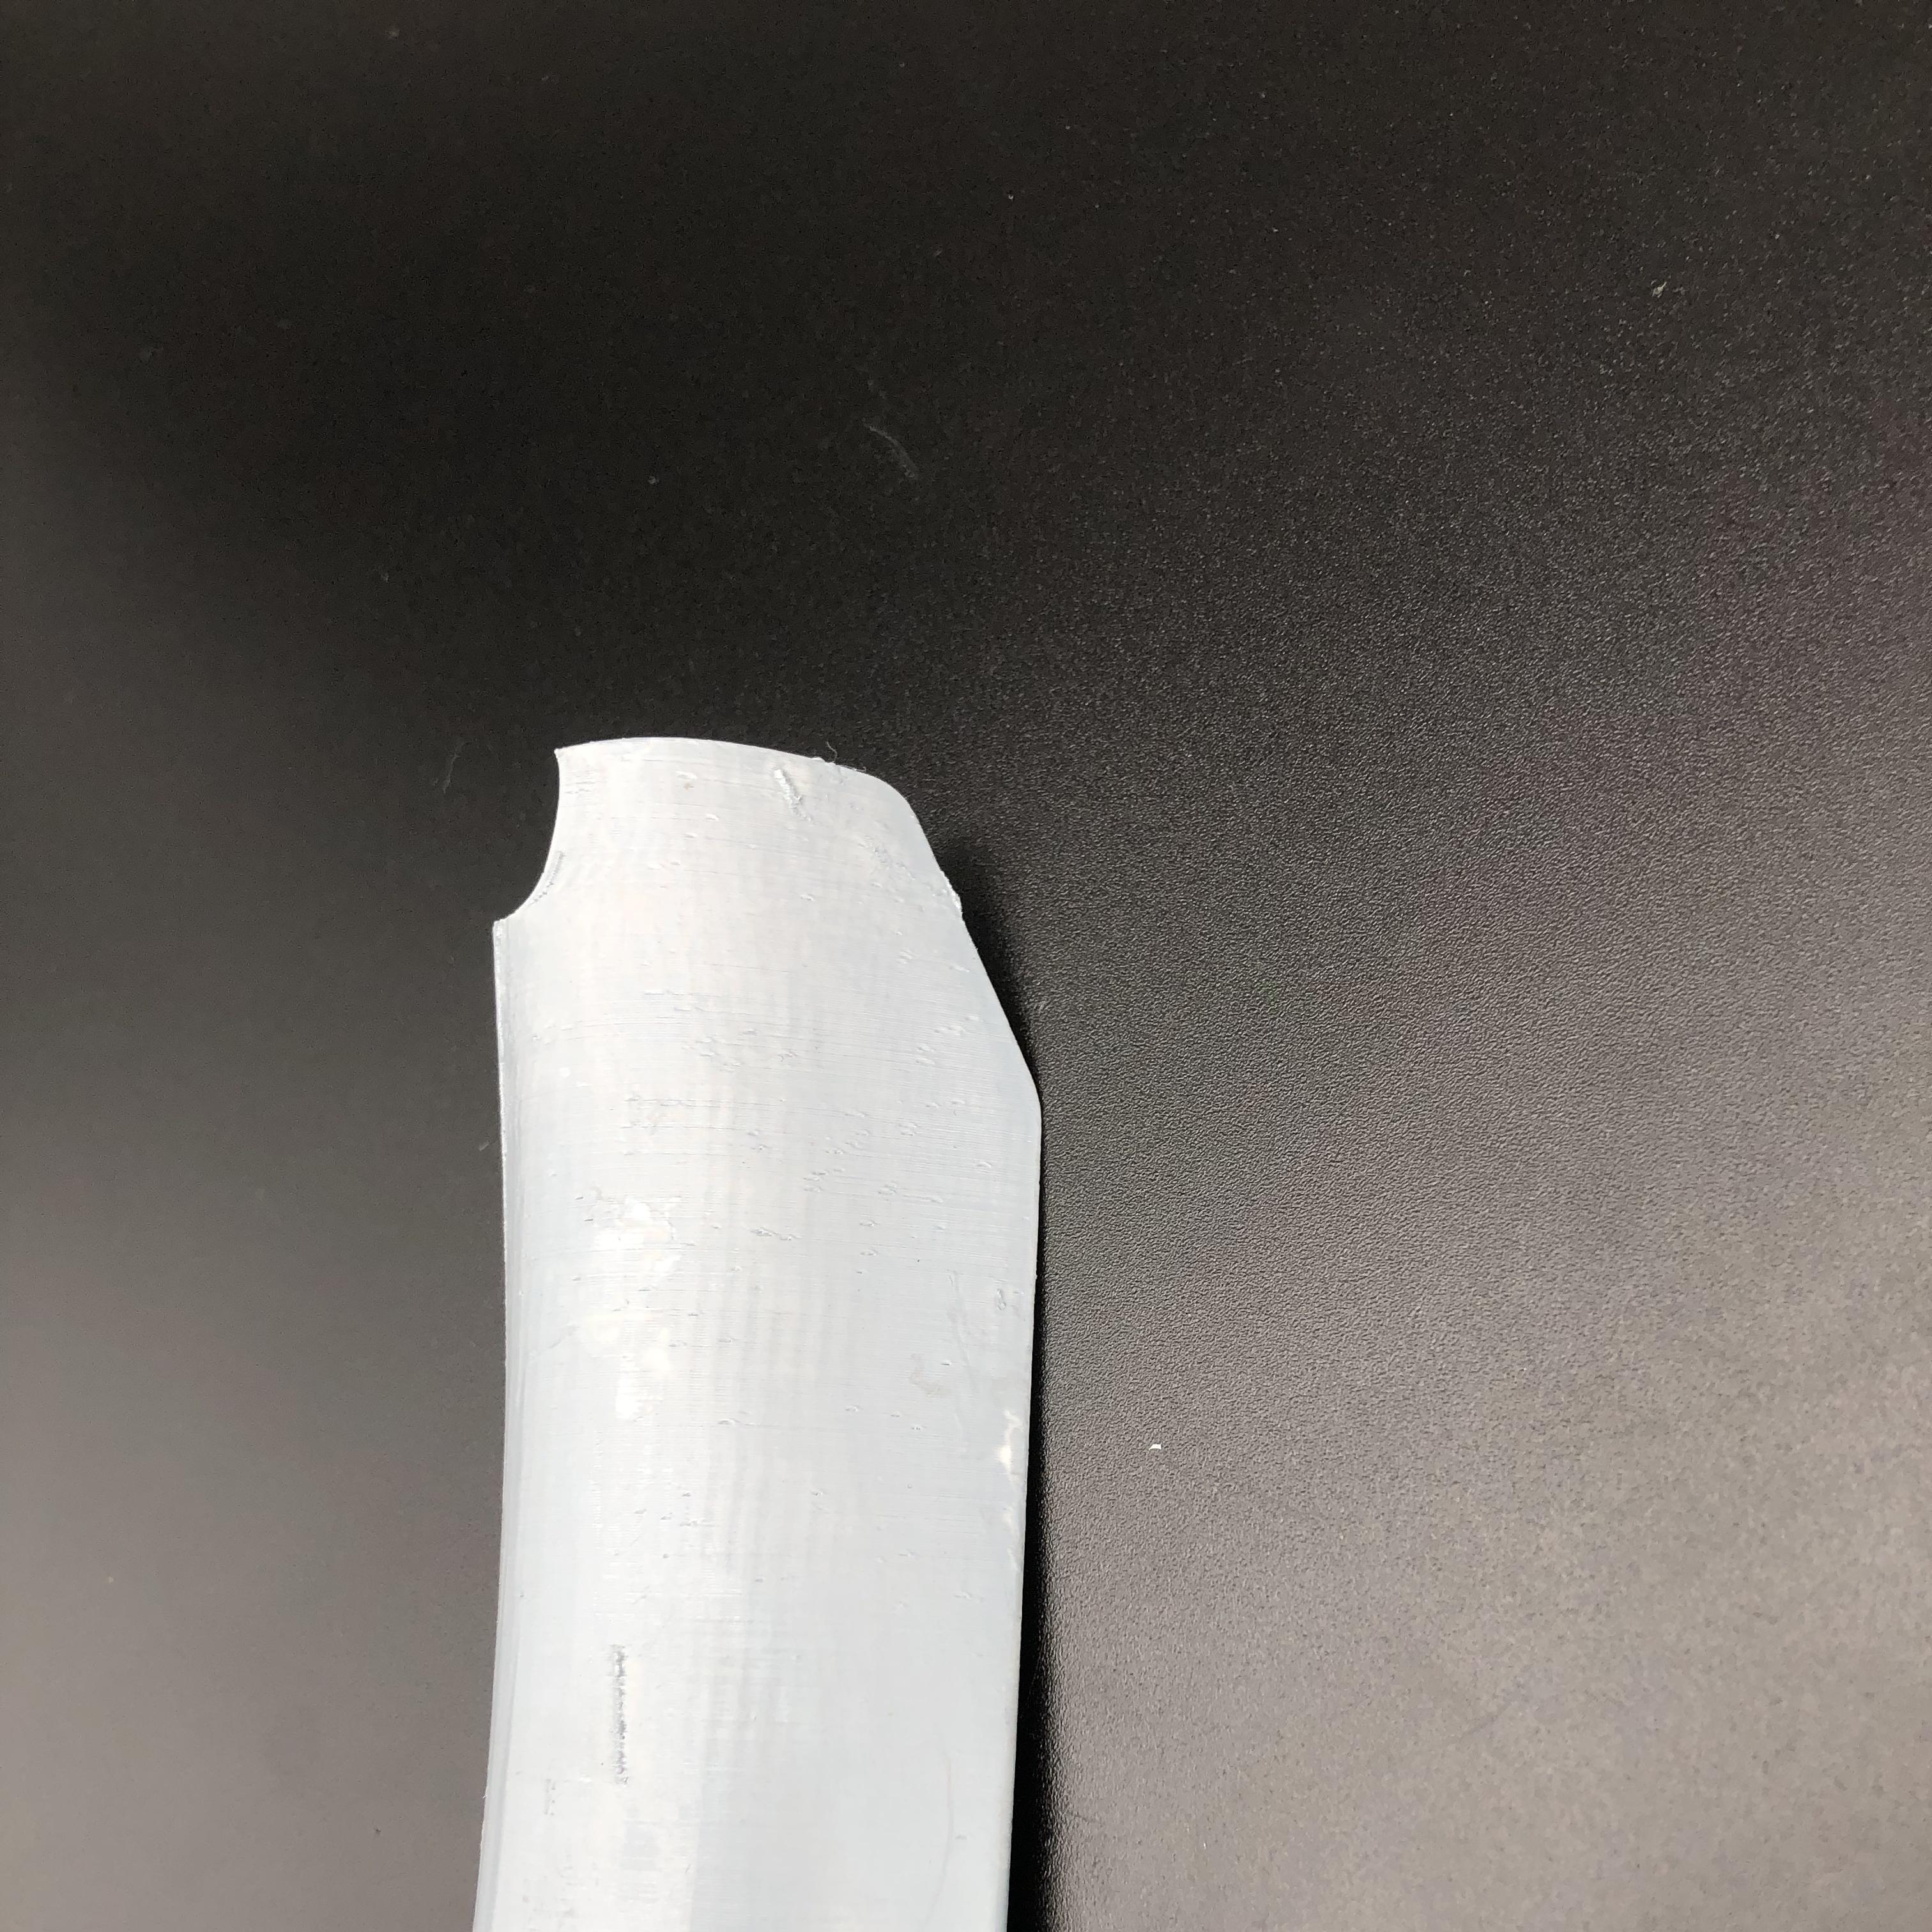fracture: (485, 741, 612, 936)
